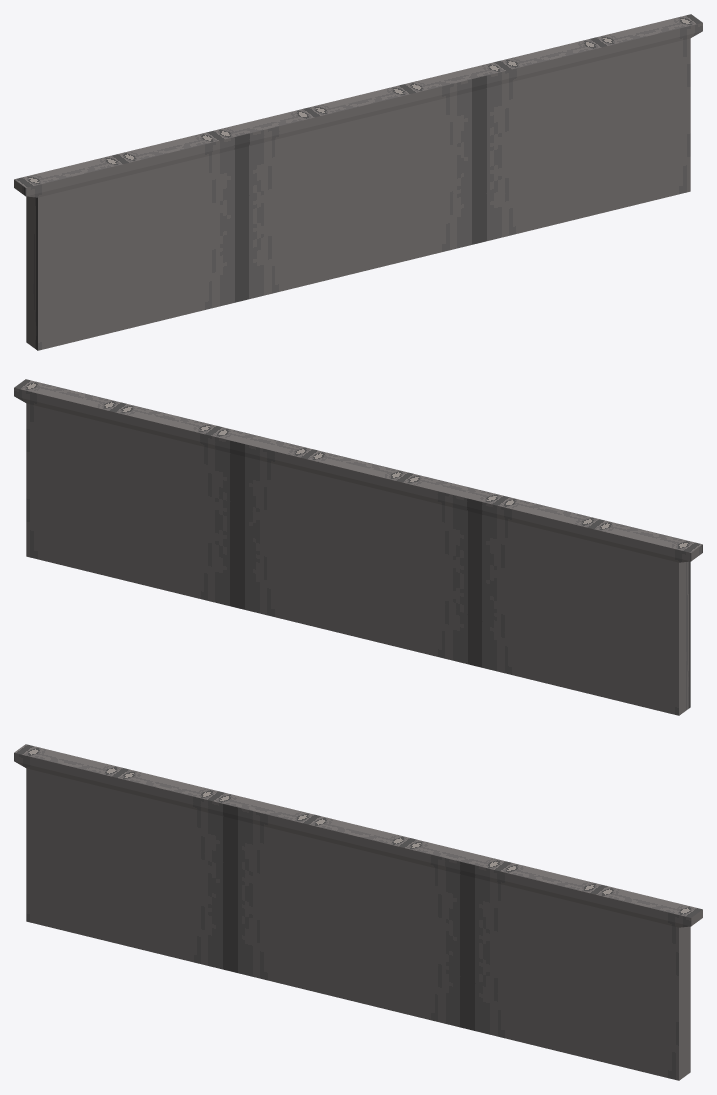
File: Wall1.fbx
The picture shows the model from 3 angles, top to bottom: view 1: azimuth 30°, elevation 25°; view 2: azimuth 150°, elevation 25°; view 3: azimuth 330°, elevation 25°; orthographic projection.
Visible parts, largest first — view 1: Cube.012; view 2: Cube.012; view 3: Cube.012.
Part boxes in pixels (x1=…): Cube.012: x1=14, y1=14, x2=702, y2=350; Cube.012: x1=14, y1=379, x2=702, y2=715; Cube.012: x1=14, y1=744, x2=702, y2=1080.
Bounding box in the file's own units: 1913 × 448 × 57.75.
Materials: 1 (1 with a texture image).
